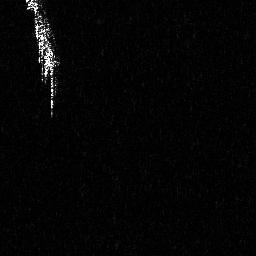ship: (22, 1, 63, 119)
